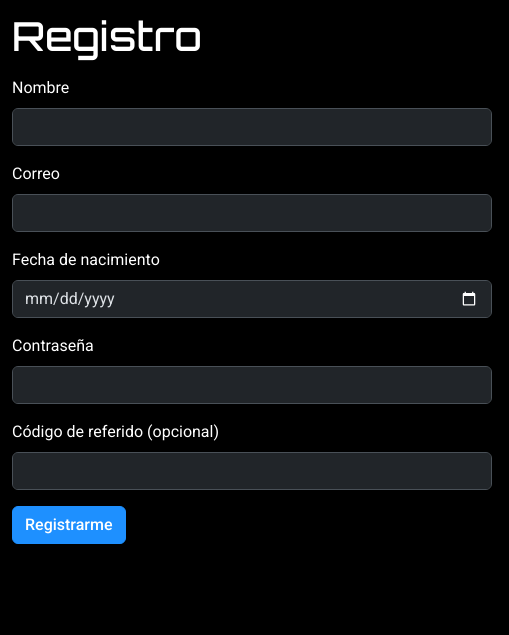
muestra el error que devuelve el registro
The image size is (509, 635).
Type "Ana" into the field labelled "Nombre" at (252,127), box x1=12 y1=108 x2=492 y2=146
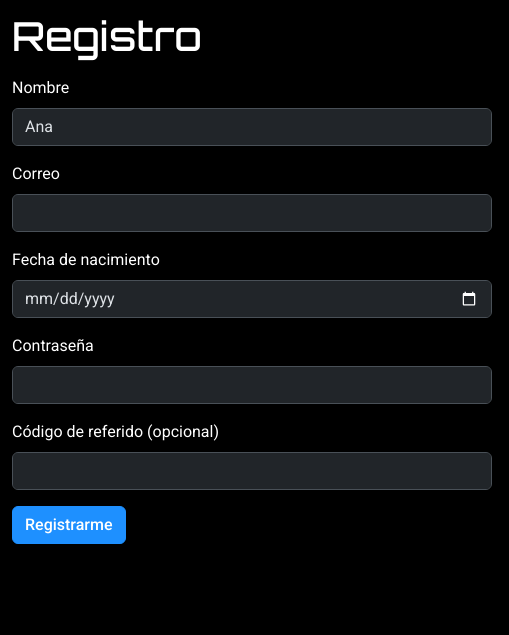
Type "ana@duocuc.cl" into the field labelled "Correo" at (252,213), box x1=12 y1=194 x2=492 y2=232
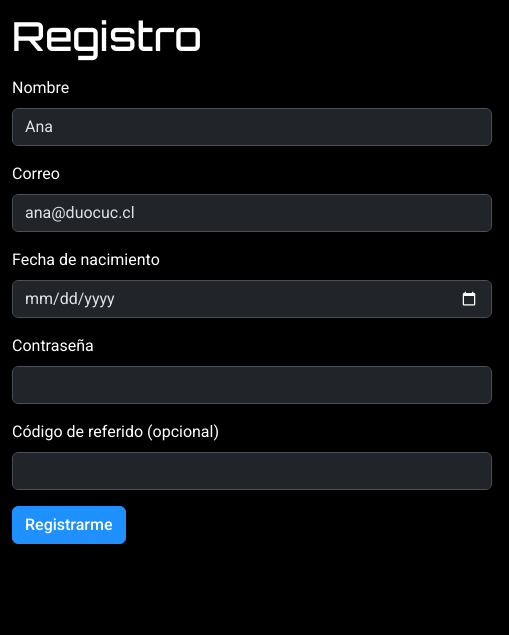
Type "2000-01-01" into the date field labelled "Fecha de nacimiento" at (252,299), box x1=12 y1=280 x2=492 y2=318
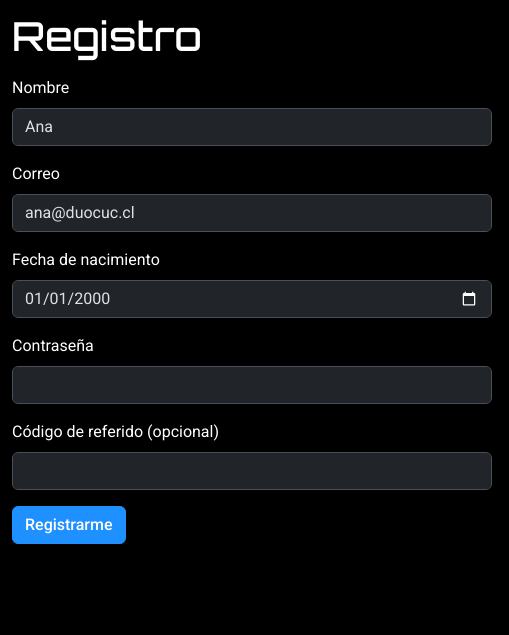
Type "secreta1" into the password field labelled "Contraseña" at (252,385), box x1=12 y1=366 x2=492 y2=404
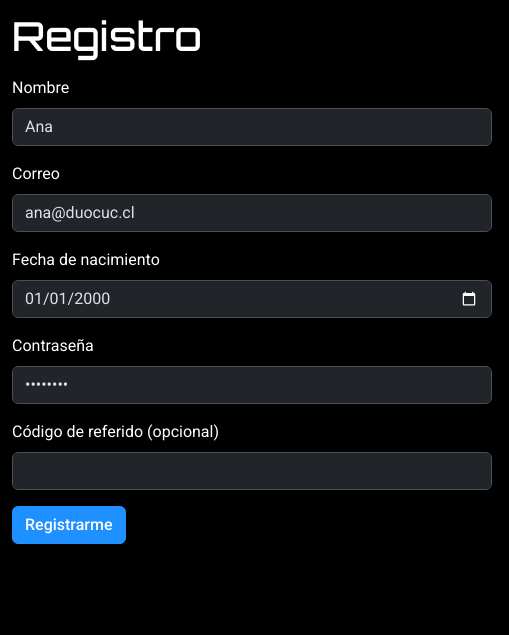
Click the button "Registrarme" at (69,525), box x1=12 y1=506 x2=126 y2=544
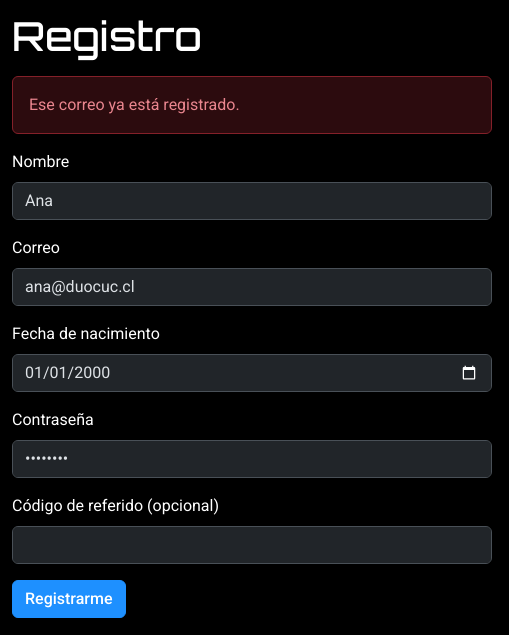
Expected: the text "Ese correo ya está registrado." is shown, x1=12 y1=76 x2=492 y2=134
